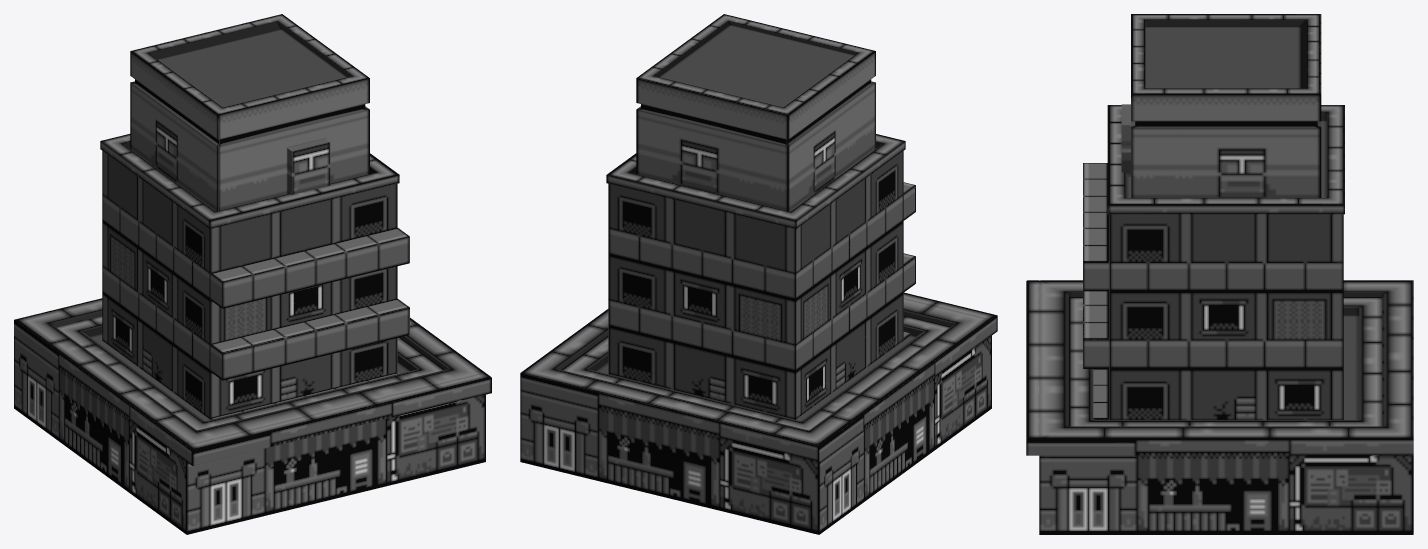
Rendered from city_01.fbx.
The picture shows the model from 3 angles, left to right: view 1: azimuth 30°, elevation 25°; view 2: azimuth 150°, elevation 25°; view 3: azimuth 270°, elevation 25°; orthographic projection. The views are drawn at different scales.
Visible parts, largest first — view 1: 立方体.007, 立方体.010, 立方体.001, 立方体.008; view 2: 立方体.007, 立方体.010, 立方体.001, 立方体.008; view 3: 立方体.007, 立方体.010, 立方体.001, 立方体.008.
Part boxes in pixels (left/top/right/bottom): 立方体.007: left=100, top=134, right=409, bottom=419; 立方体.010: left=14, top=298, right=491, bottom=534; 立方体.001: left=130, top=14, right=369, bottom=211; 立方体.008: left=55, top=315, right=444, bottom=450; 立方体.007: left=606, top=134, right=915, bottom=419; 立方体.010: left=520, top=292, right=997, bottom=534; 立方体.001: left=636, top=14, right=875, bottom=211; 立方体.008: left=561, top=315, right=950, bottom=446; 立方体.007: left=1083, top=105, right=1344, bottom=419; 立方体.010: left=1026, top=280, right=1413, bottom=534; 立方体.001: left=1121, top=14, right=1321, bottom=197; 立方体.008: left=1068, top=297, right=1384, bottom=426.
Bounding box in the file's own units: 867 × 1041 × 897.
